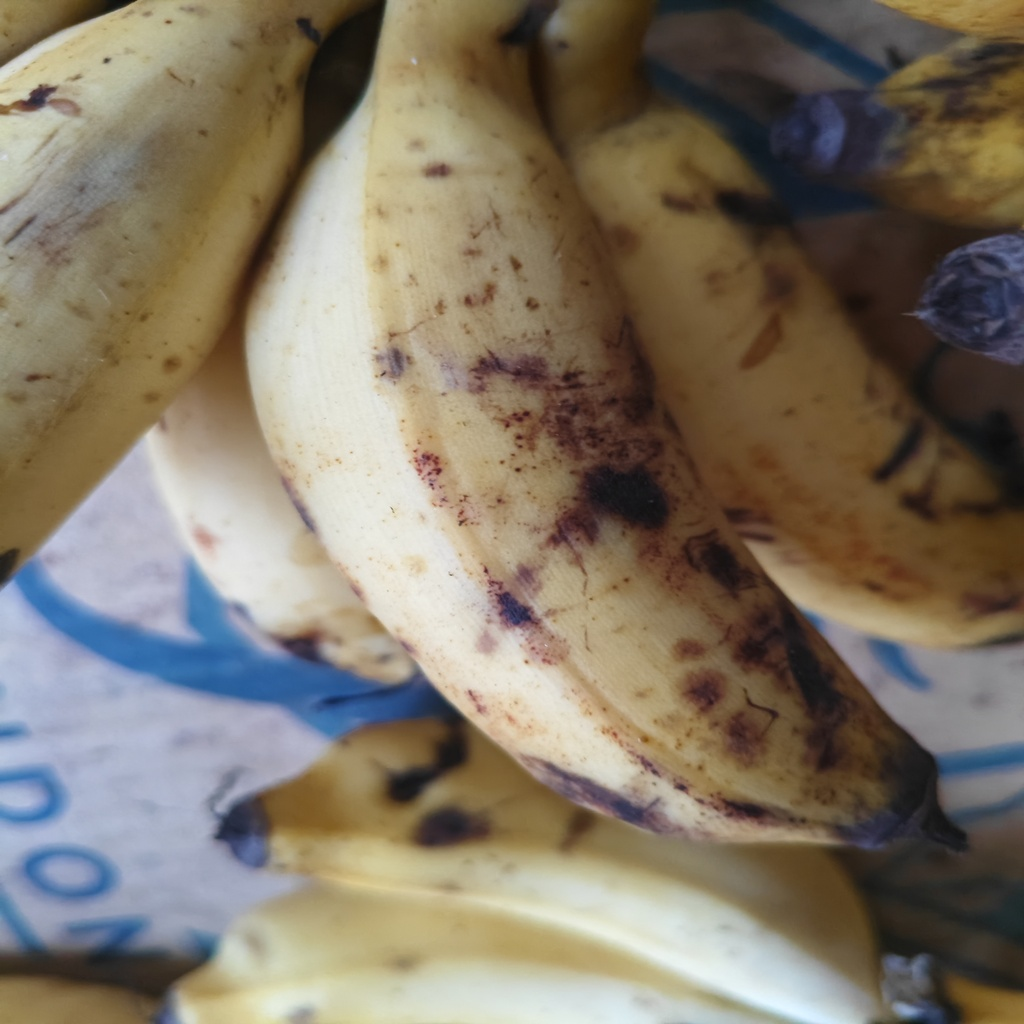unhealthy: (240, 123, 972, 845), (563, 117, 1022, 648)
